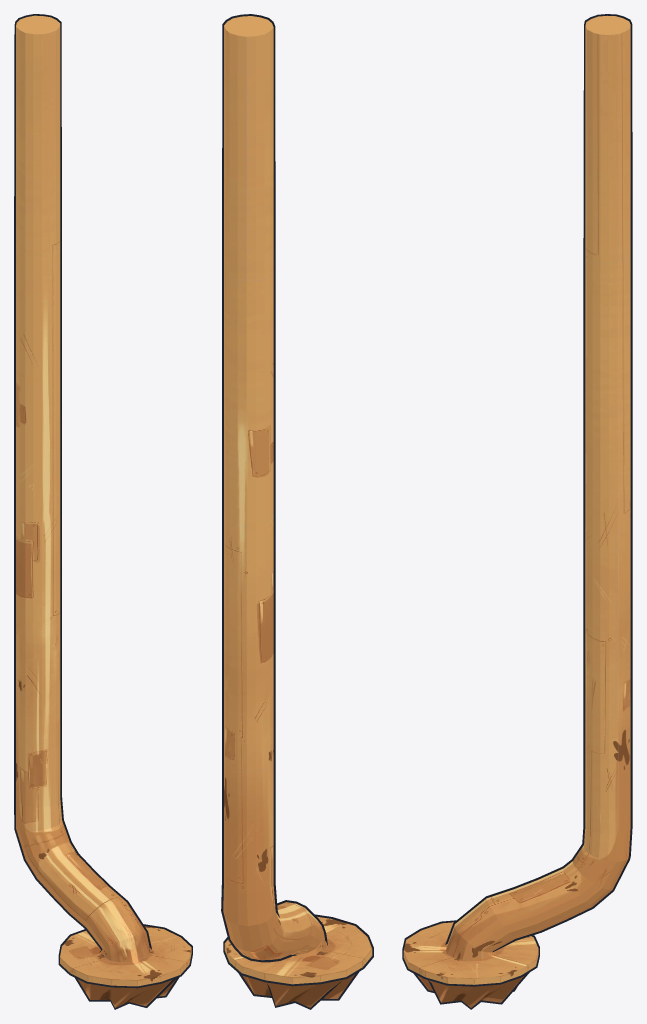
File: grinder.glb
3 renders of one model, left to right at view 1: azimuth 30°, elevation 25°; view 2: azimuth 150°, elevation 25°; view 3: azimuth 270°, elevation 25°, orthographic. The views are drawn at different scales.
Parts seen in each view (by area): view 1: meulearm, meulehead, meulearm border, meulehead border; view 2: meulearm, meulehead, meulearm border, meulehead border; view 3: meulearm, meulehead, meulearm border, meulehead border.
Part boxes in pixels (box(x1,y1,x2,y2)): meulearm: box(16, 15, 150, 962); meulehead: box(60, 926, 191, 1007); meulearm border: box(14, 14, 151, 952); meulehead border: box(58, 924, 192, 1009); meulearm: box(223, 16, 325, 960); meulehead: box(224, 916, 372, 1007); meulearm border: box(221, 14, 327, 962); meulehead border: box(223, 914, 373, 1009); meulearm: box(446, 15, 630, 960); meulehead: box(403, 922, 538, 1007); meulearm border: box(445, 14, 632, 952); meulehead border: box(402, 920, 539, 1009).
Bounding box in the file's own units: 0.526 × 4.03 × 0.88.
3 materials, 2 textured.
